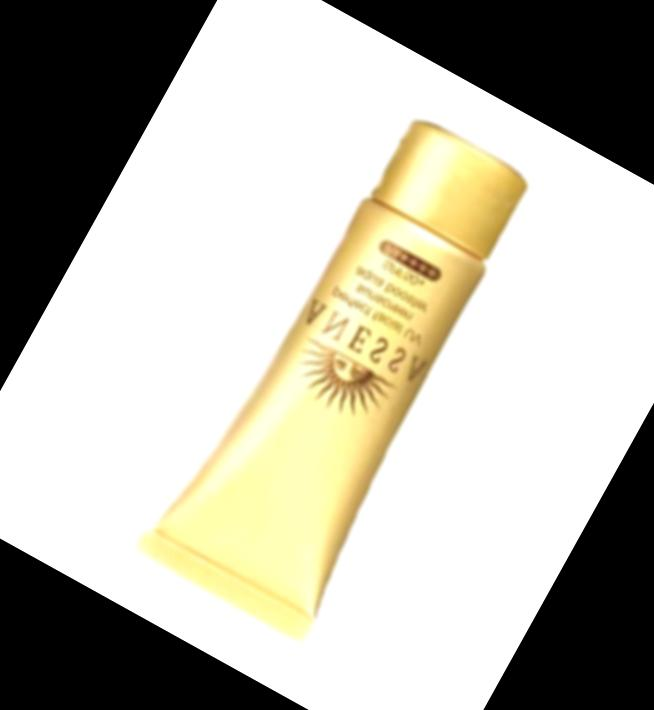cosmetic: (130, 94, 555, 643)
